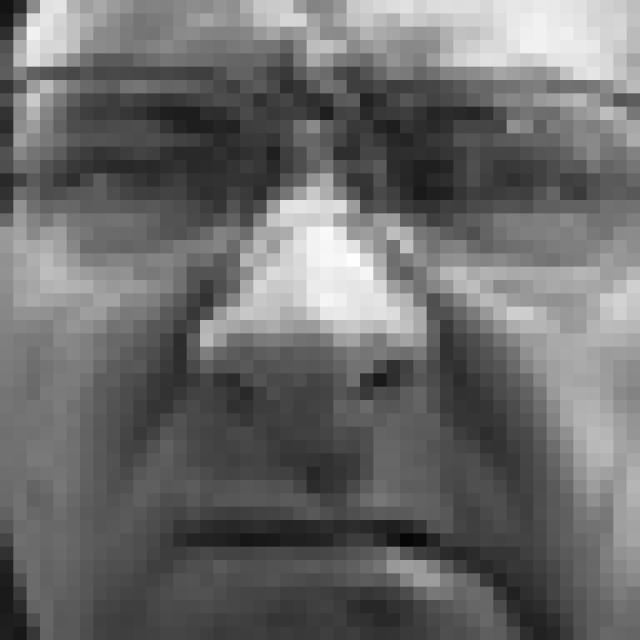disgust: (17, 56, 635, 640)
